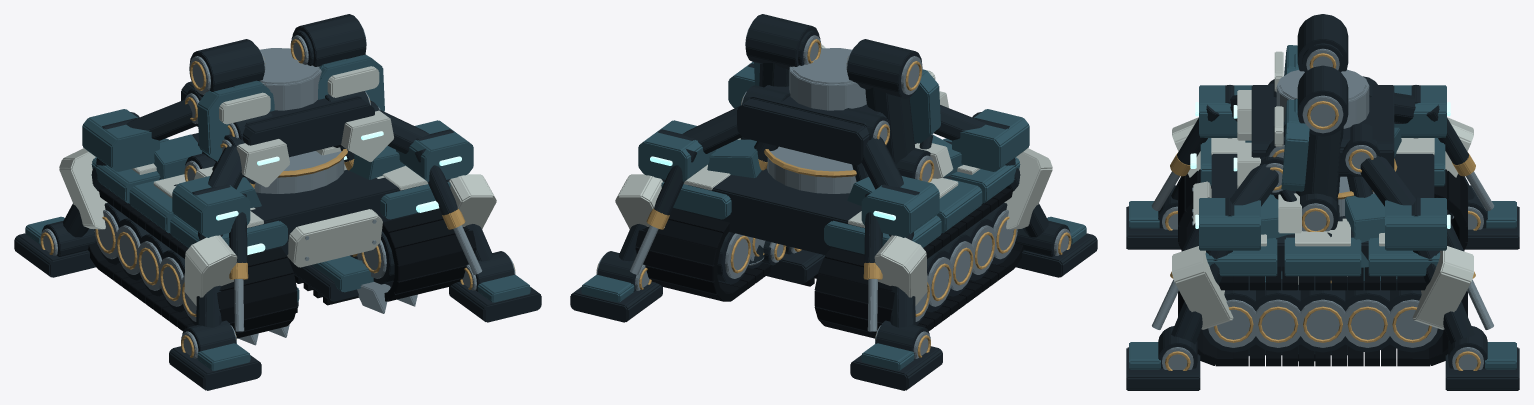
File: IRONCLAD-LOCOMOTION.glb
3 renders of one model, left to right at view 1: azimuth 30°, elevation 25°; view 2: azimuth 150°, elevation 25°; view 3: azimuth 270°, elevation 25°, orthographic. The views are drawn at different scales.
Visible parts, largest first — view 1: legs_treads_paint, legs_treads_ivory, legs_treads_dark, legs_tetrapod_dark, legs_tetrapod_left_rear_knee_paint, legs_tetrapod_left_front_knee_paint, legs_tetrapod_left_front_foot_dark, legs_tetrapod_right_front_foot_dark, legs_tetrapod_right_front_knee_paint, legs_tetrapod_left_rear_foot_dark, legs_tetrapod_left_front_knee_ivory, legs_anchor_left_hip_dark (+49 smaller); view 2: legs_treads_dark, legs_treads_paint, legs_tetrapod_dark, legs_anchor_left_hip_dark, legs_anchor_right_hip_dark, legs_tetrapod_left_front_knee_paint, legs_tetrapod_left_rear_knee_paint, legs_tetrapod_left_rear_foot_dark, legs_tetrapod_right_rear_foot_dark, legs_tetrapod_right_rear_knee_paint, legs_tetrapod_left_front_foot_dark, legs_treads_steel (+43 smaller); view 3: legs_treads_paint, legs_anchor_right_hip_dark, legs_treads_dark, legs_tetrapod_right_front_knee_paint, legs_tetrapod_right_rear_knee_paint, legs_tetrapod_right_front_knee_ivory, legs_tetrapod_right_rear_knee_ivory, legs_tetrapod_dark, legs_treads_ivory, legs_tetrapod_right_front_foot_dark, legs_tetrapod_right_rear_foot_dark, legs_tetrapod_right_rear_hip_dark (+57 smaller).
Part boxes in pixels (<box>): legs_treads_paint: <box>91,138,450,249</box>; legs_treads_ivory: <box>132,163,428,267</box>; legs_treads_dark: <box>159,133,427,255</box>; legs_tetrapod_dark: <box>181,81,374,157</box>; legs_tetrapod_left_rear_knee_paint: <box>82,109,159,171</box>; legs_tetrapod_left_front_knee_paint: <box>172,176,250,237</box>; legs_tetrapod_left_front_foot_dark: <box>169,320,261,390</box>; legs_tetrapod_right_front_foot_dark: <box>449,251,541,322</box>; legs_tetrapod_right_front_knee_paint: <box>396,120,473,182</box>; legs_tetrapod_left_rear_foot_dark: <box>14,220,95,277</box>; legs_tetrapod_left_front_knee_ivory: <box>184,235,237,305</box>; legs_anchor_left_hip_dark: <box>190,39,263,161</box>; legs_treads_dark: <box>683,140,952,255</box>; legs_treads_paint: <box>661,138,1020,254</box>; legs_tetrapod_dark: <box>737,99,889,165</box>; legs_anchor_left_hip_dark: <box>848,39,921,164</box>; legs_anchor_right_hip_dark: <box>745,14,819,87</box>; legs_tetrapod_left_front_knee_paint: <box>952,109,1029,171</box>; legs_tetrapod_left_rear_knee_paint: <box>861,176,939,237</box>; legs_tetrapod_left_rear_foot_dark: <box>850,320,942,390</box>; legs_tetrapod_right_rear_foot_dark: <box>570,251,662,322</box>; legs_tetrapod_right_rear_knee_paint: <box>638,120,715,182</box>; legs_tetrapod_left_front_foot_dark: <box>1016,220,1097,277</box>; legs_treads_steel: <box>767,146,856,193</box>; legs_treads_paint: <box>1200,138,1445,276</box>; legs_anchor_right_hip_dark: <box>1296,65,1348,202</box>; legs_treads_dark: <box>1211,153,1434,271</box>; legs_tetrapod_right_front_knee_paint: <box>1199,198,1260,250</box>; legs_tetrapod_right_rear_knee_paint: <box>1385,198,1446,250</box>; legs_tetrapod_right_front_knee_ivory: <box>1172,246,1233,329</box>; legs_tetrapod_right_rear_knee_ivory: <box>1412,246,1473,329</box>; legs_tetrapod_dark: <box>1251,85,1394,176</box>; legs_treads_ivory: <box>1193,138,1434,246</box>; legs_tetrapod_right_front_foot_dark: <box>1126,326,1200,390</box>; legs_tetrapod_right_rear_foot_dark: <box>1445,326,1519,390</box>; legs_tetrapod_right_rear_hip_dark: <box>1341,123,1415,206</box>.
Bounding box in the file's own units: 4.42 × 3.21 × 4.31.
